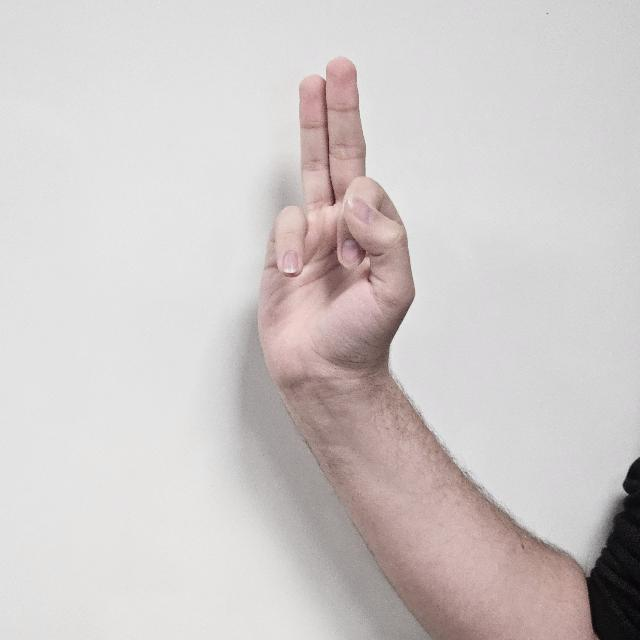R: (257, 59, 415, 402)
